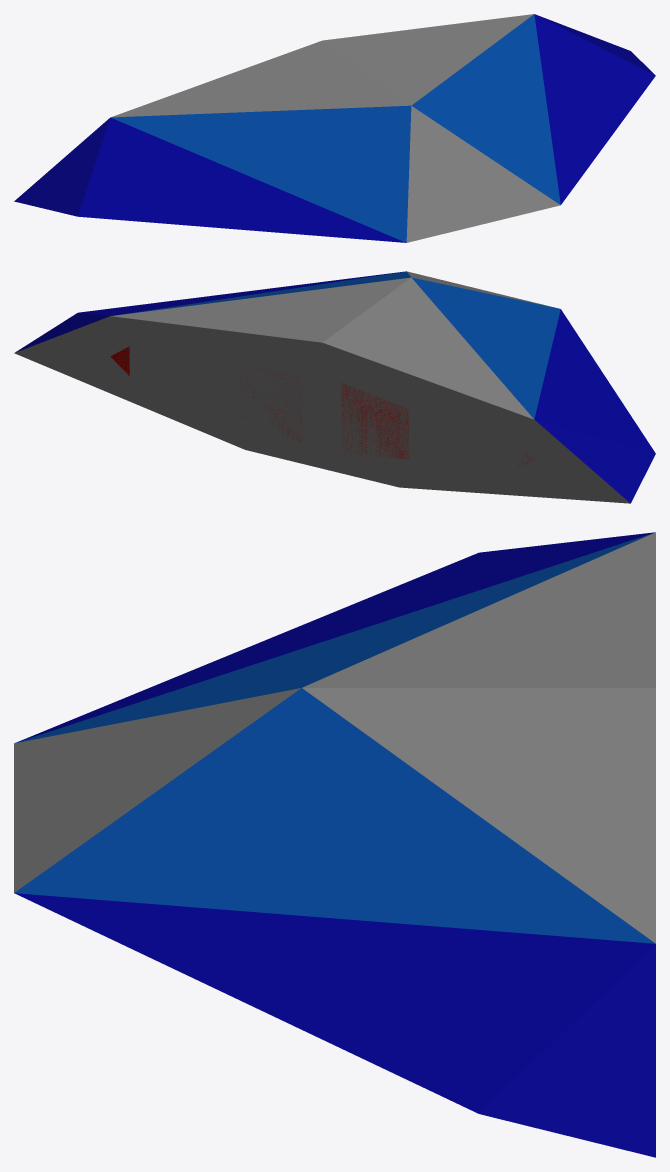
The model's file is cobra_mk3.obj.
3 views of the same model, one above another, from view 1: azimuth 30°, elevation 25°; view 2: azimuth 150°, elevation 25°; view 3: azimuth 270°, elevation 25° (orthographic). The views are drawn at different scales.
Visible parts, largest first — view 1: cobra_mk3; view 2: cobra_mk3; view 3: cobra_mk3.
Part boxes in pixels (x1,y1,x2,y2): cobra_mk3: [14, 14, 655, 242]; cobra_mk3: [14, 271, 655, 503]; cobra_mk3: [14, 532, 655, 1157].
Size of the model in its own units: 256 by 50 by 116.
